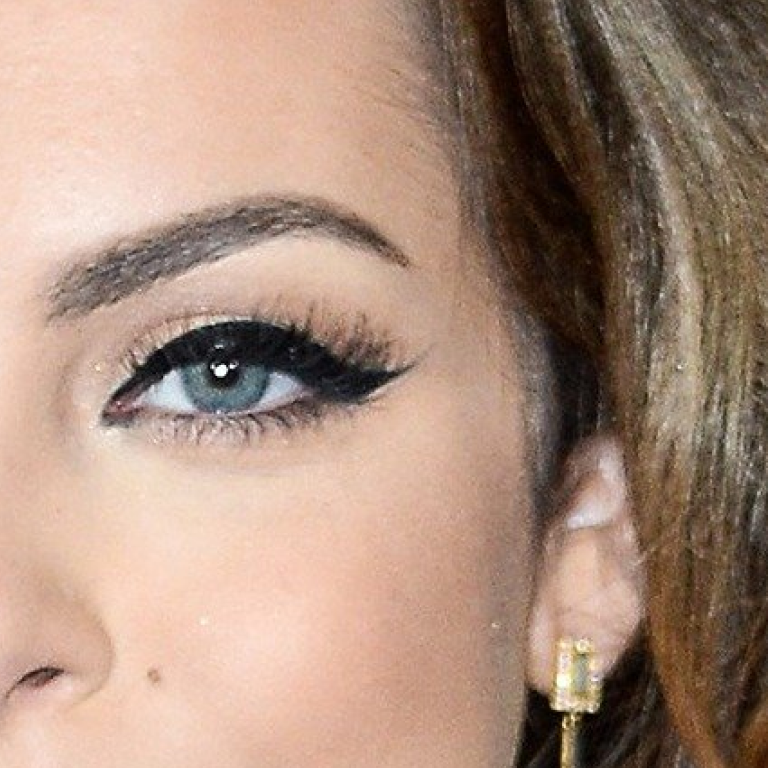iris: (181, 362, 268, 413)
pupil: (204, 360, 245, 390)
sclera: (107, 366, 198, 411), (255, 366, 316, 407)
